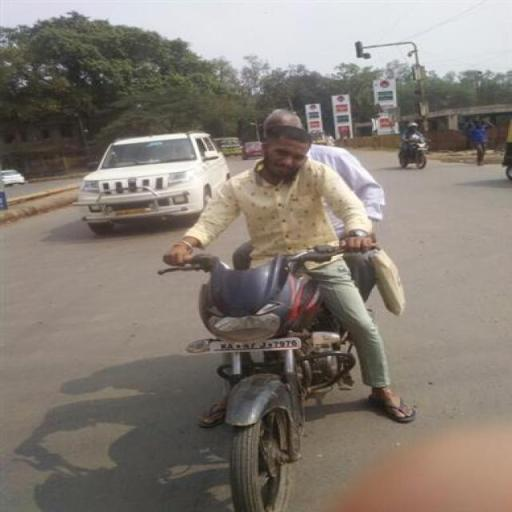using mobile: (284, 143, 320, 194)
